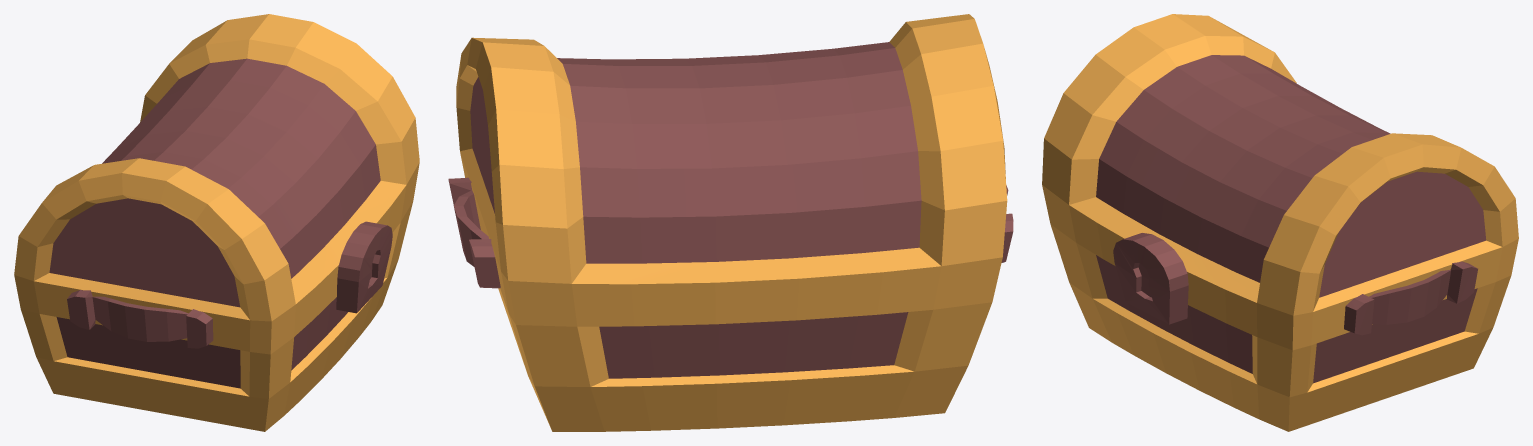
The model's file is ToyObject_090.fbx.
3 renders of one model, left to right at view 1: azimuth 30°, elevation 25°; view 2: azimuth 150°, elevation 25°; view 3: azimuth 270°, elevation 25°, orthographic. The views are drawn at different scales.
Parts seen in each view (by area): view 1: Object.060; view 2: Object.060; view 3: Object.060.
Boxes of the visible parts, x1=… form: Object.060: x1=14, y1=14, x2=419, y2=431; Object.060: x1=448, y1=14, x2=1013, y2=431; Object.060: x1=1042, y1=14, x2=1518, y2=431.
Size of the model in its own units: 0.2004 by 0.1186 by 0.1919.
